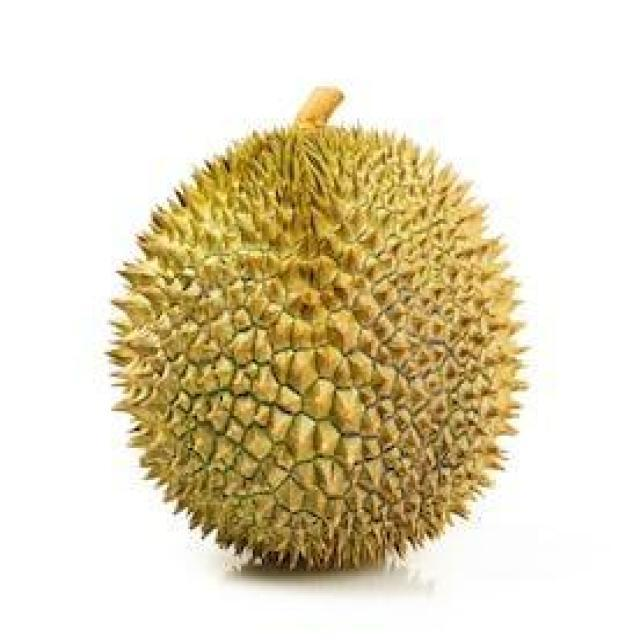mature: (111, 127, 520, 569)
